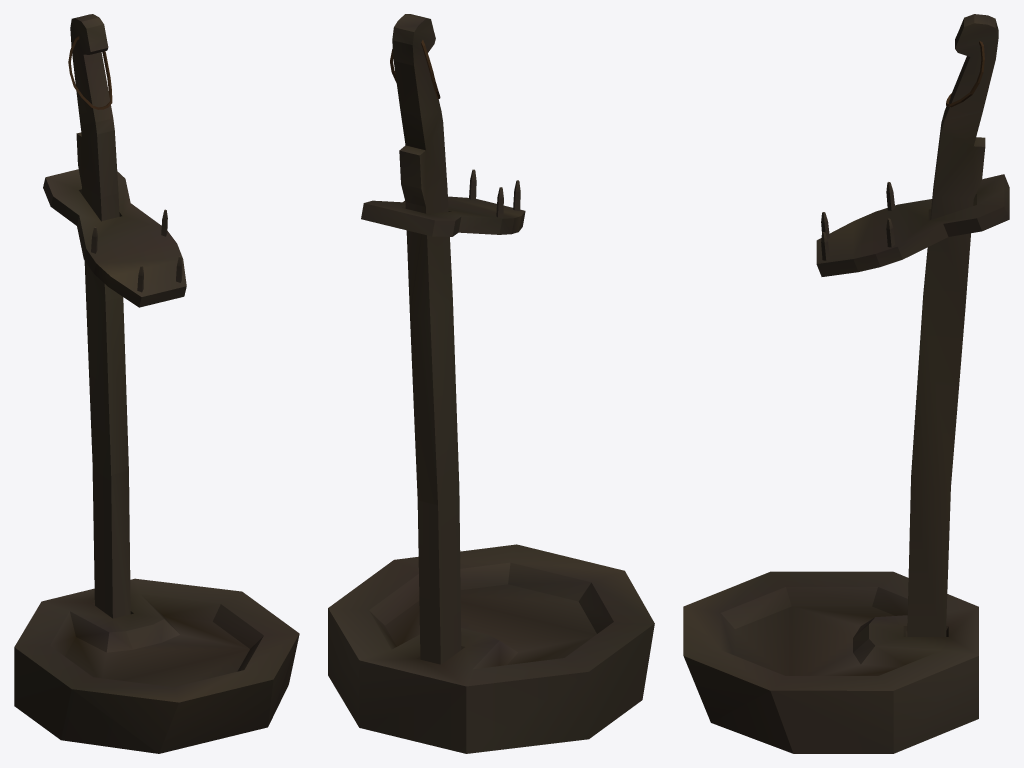
The model's file is lampstand_6d970c76.glb.
3 views of the same model, side by side, from view 1: azimuth 30°, elevation 25°; view 2: azimuth 150°, elevation 25°; view 3: azimuth 270°, elevation 25° (orthographic). The views are drawn at different scales.
Visible parts, largest first — view 1: SM_Lampstand_M_Lampstand_0; view 2: SM_Lampstand_M_Lampstand_0; view 3: SM_Lampstand_M_Lampstand_0.
Boxes of the visible parts, x1,y1,x2,y2 form: SM_Lampstand_M_Lampstand_0: (14,14,299,753); SM_Lampstand_M_Lampstand_0: (328,14,654,753); SM_Lampstand_M_Lampstand_0: (683,14,1009,753).
Bounding box in the file's own units: 0.2593 × 0.6862 × 0.3001.
